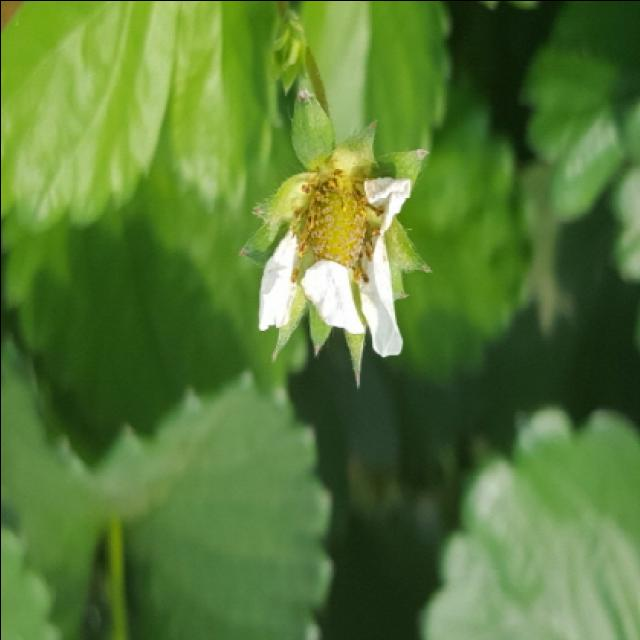Blossom Blight: (284, 165, 387, 288)
